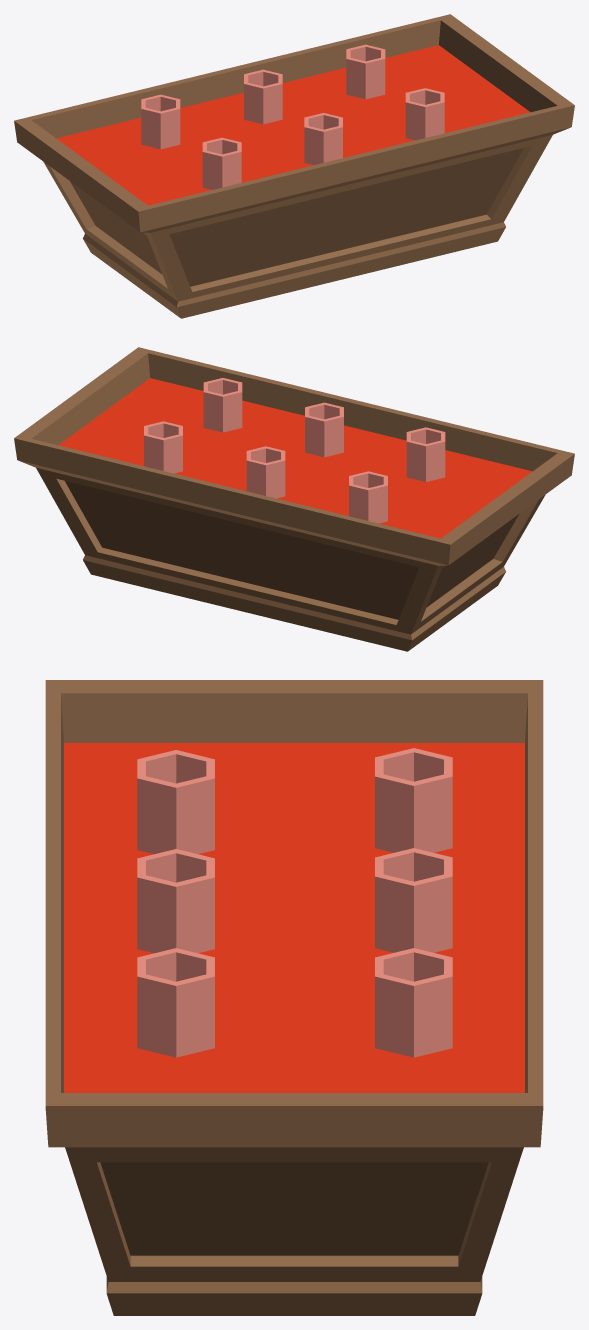
Rendered from pot bahan.fbx.
3 views of the same model, one above another, from view 1: azimuth 30°, elevation 25°; view 2: azimuth 150°, elevation 25°; view 3: azimuth 270°, elevation 25° (orthographic). The views are drawn at different scales.
Parts seen in each view (by area): view 1: Cylinder; view 2: Cylinder; view 3: Cylinder.
Boxes of the visible parts, x1=… form: Cylinder: x1=14, y1=14, x2=574, y2=318; Cylinder: x1=14, y1=347, x2=574, y2=651; Cylinder: x1=45, y1=680, x2=543, y2=1315.
Size of the model in its own units: 346 by 111 by 171.
1 material, 1 textured.
